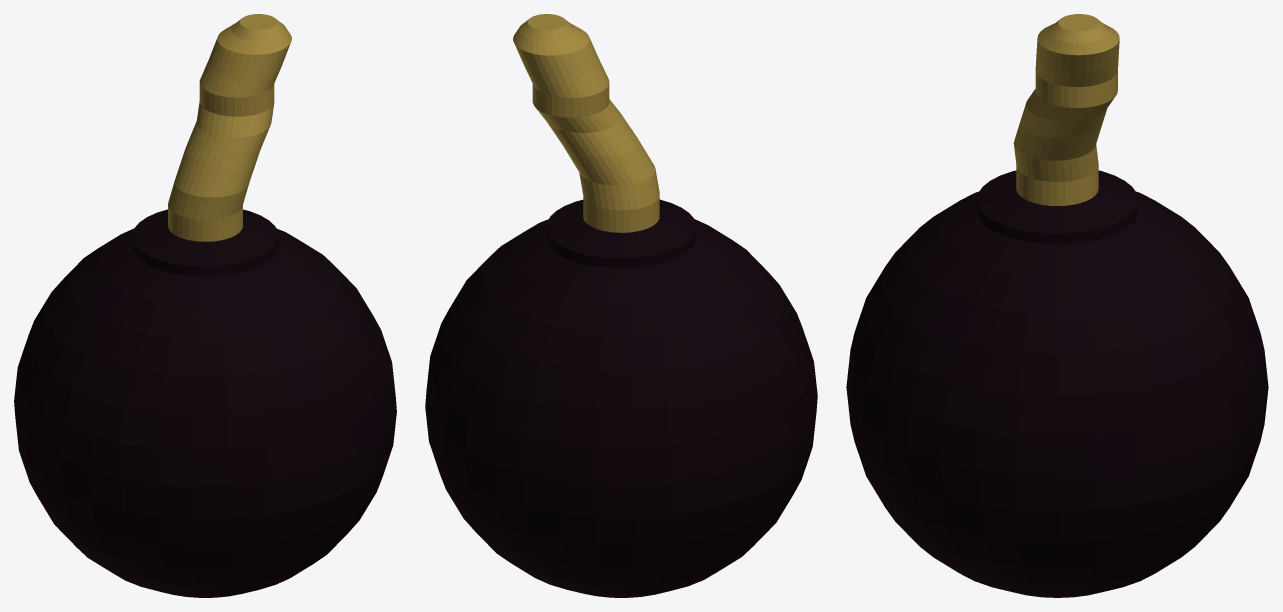
File: bomb.glb
The picture shows the model from 3 angles, left to right: view 1: azimuth 30°, elevation 25°; view 2: azimuth 150°, elevation 25°; view 3: azimuth 270°, elevation 25°; orthographic projection. The views are drawn at different scales.
Parts seen in each view (by area): view 1: Bomb; view 2: Bomb; view 3: Bomb.
Boxes of the visible parts, box(x1,y1,x2,y2) form: Bomb: box(14, 14, 396, 597); Bomb: box(425, 14, 817, 597); Bomb: box(846, 14, 1268, 597).
Size of the model in its own units: 2 by 3.08 by 2.
